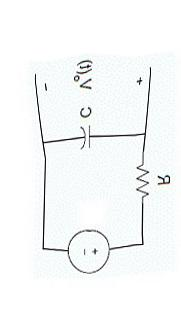Battery: (56, 221, 123, 287)
